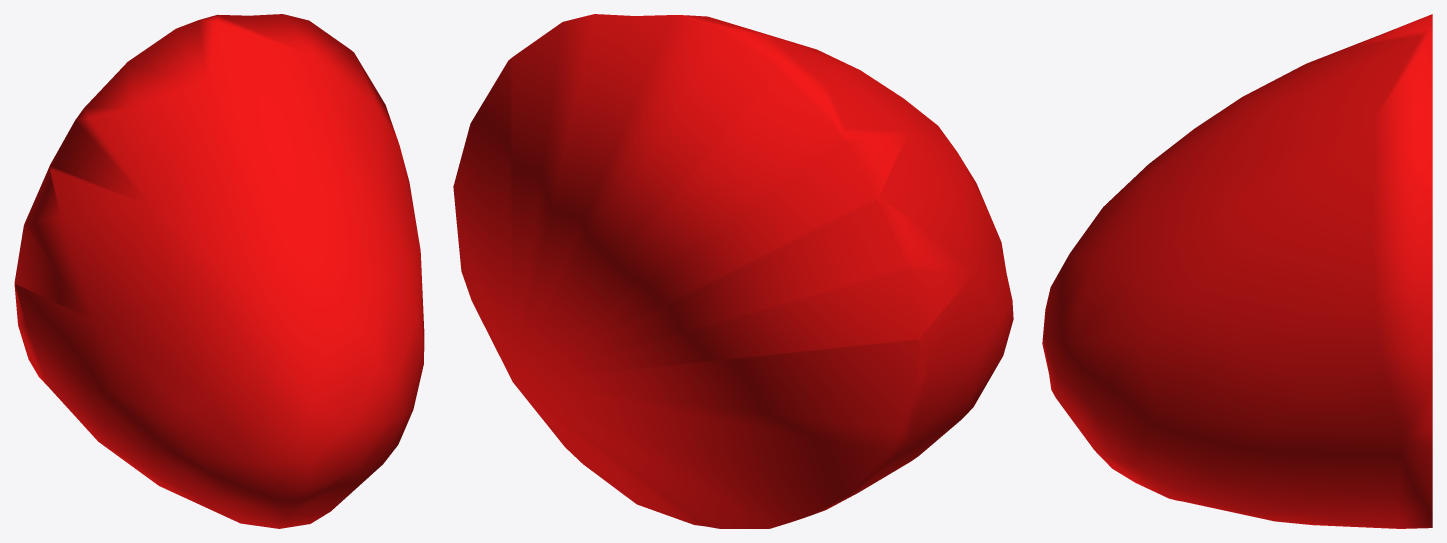
File: strawberry_left.obj
The picture shows the model from 3 angles, left to right: view 1: azimuth 30°, elevation 25°; view 2: azimuth 150°, elevation 25°; view 3: azimuth 270°, elevation 25°; orthographic projection. The views are drawn at different scales.
Parts seen in each view (by area): view 1: strawberry.002; view 2: strawberry.002; view 3: strawberry.002.
Boxes of the visible parts, x1=… form: strawberry.002: x1=14, y1=14, x2=424, y2=528; strawberry.002: x1=453, y1=14, x2=1013, y2=528; strawberry.002: x1=1042, y1=14, x2=1432, y2=528.
Size of the model in its own units: 0.0771 by 0.0814 by 0.0587.
